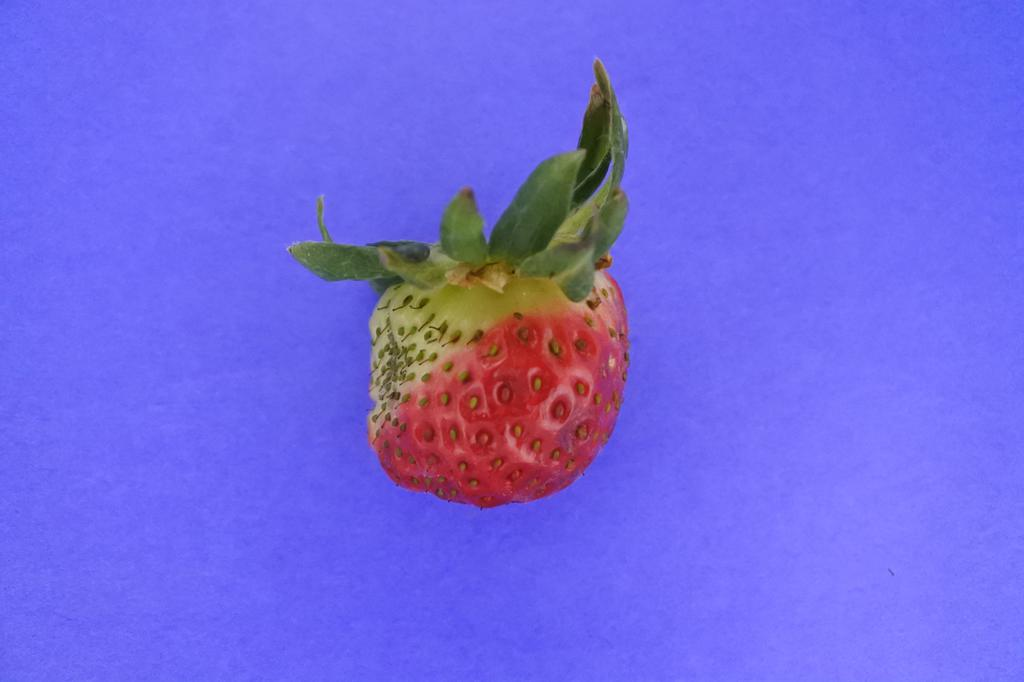red strawberry: (285, 58, 634, 507)
